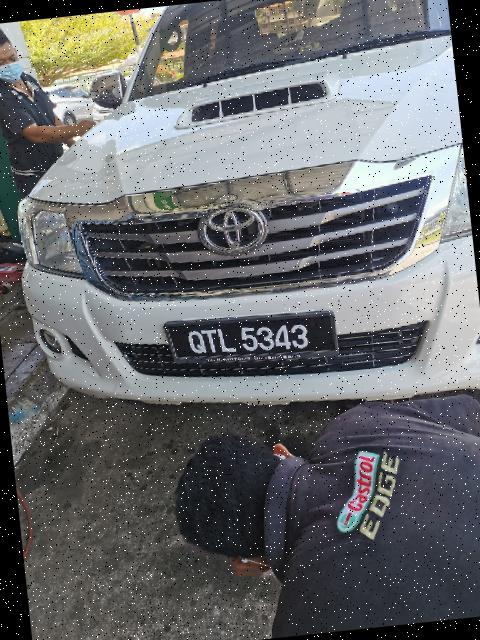License_Plate: (164, 306, 341, 377)
car: (1, 1, 480, 440)
